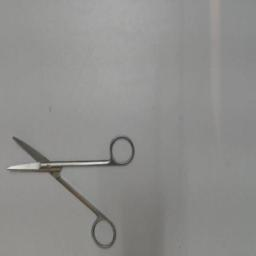Curved Mayo Scissors: (3, 130, 137, 254)
